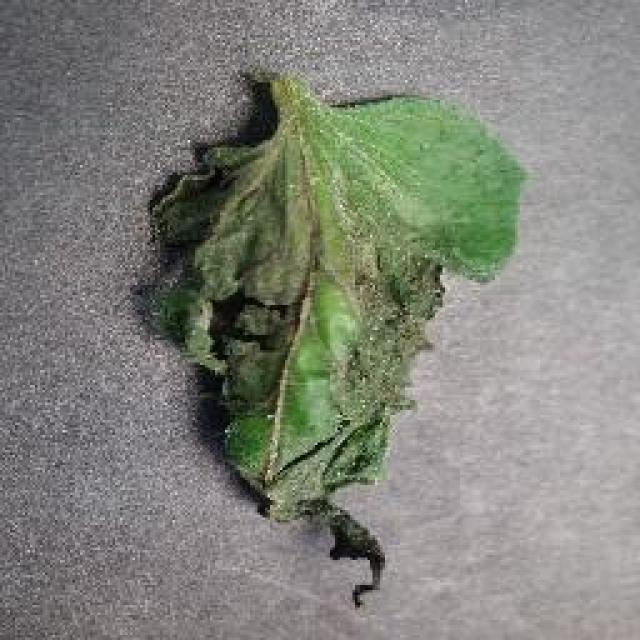Tomato late blight leaf: (132, 90, 526, 608)
